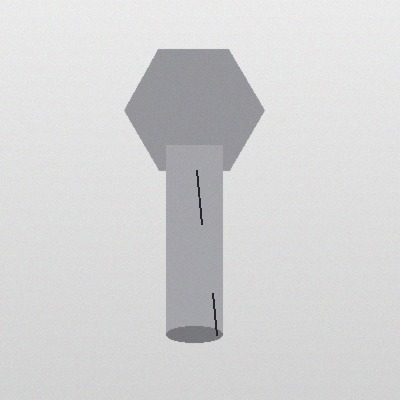scratch: (190, 166, 207, 228), (206, 289, 222, 339)
